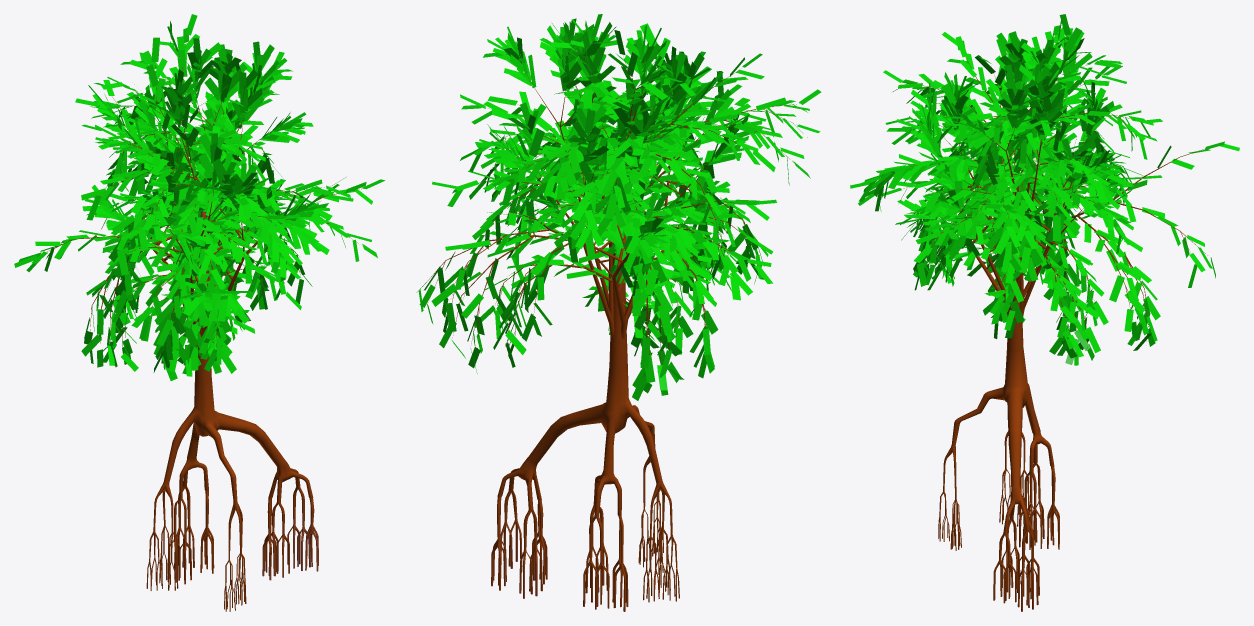
Rendered from Manguezal.fbx.
3 renders of one model, left to right at view 1: azimuth 30°, elevation 25°; view 2: azimuth 150°, elevation 25°; view 3: azimuth 270°, elevation 25°, orthographic. The views are drawn at different scales.
Visible parts, largest first — view 1: leaves, Cylinder, tree; view 2: leaves, Cylinder, tree; view 3: leaves, Cylinder, tree.
Part boxes in pixels (<box>): leaves: <box>14,14,385,380</box>; Cylinder: <box>146,211,318,611</box>; tree: <box>47,40,361,350</box>; leaves: <box>416,14,821,400</box>; Cylinder: <box>491,243,679,611</box>; tree: <box>420,40,799,364</box>; leaves: <box>850,14,1239,365</box>; Cylinder: <box>938,180,1059,611</box>; tree: <box>881,36,1210,342</box>.
Size of the model in its own units: 1420 by 2421 by 1575.
